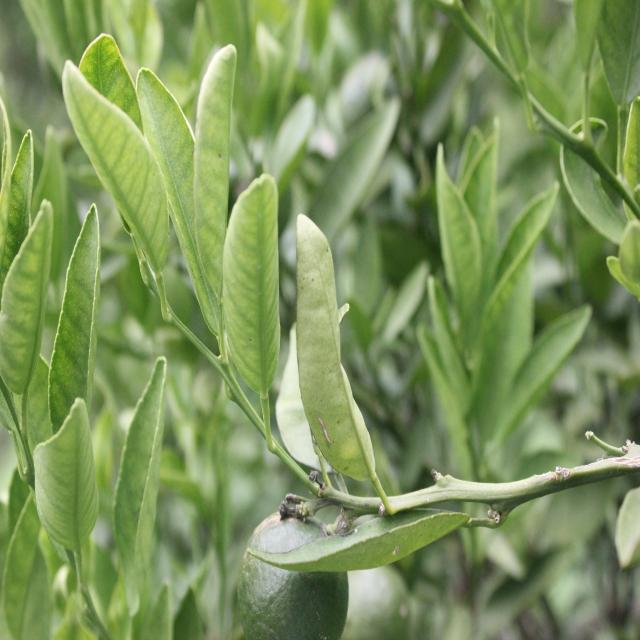melanose: (296, 235, 377, 486)
